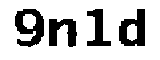1: (82, 7, 114, 52)
9: (10, 4, 45, 51)
d: (115, 6, 150, 53)
n: (46, 17, 79, 51)
